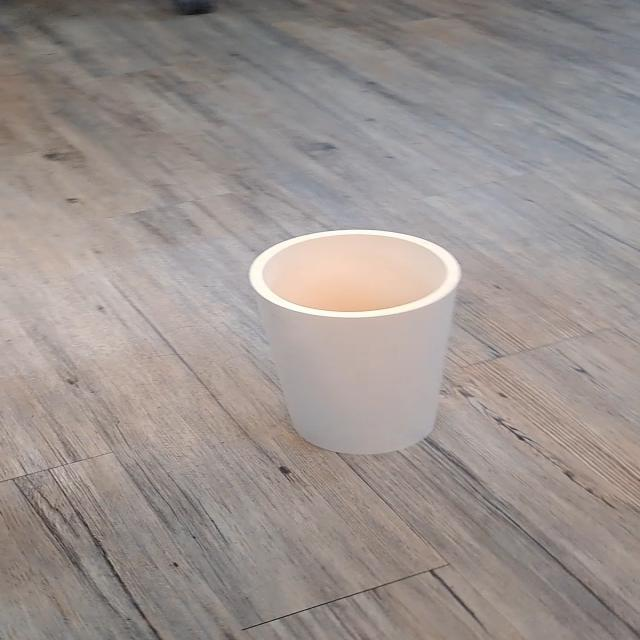CORAL: (211, 212, 547, 476)
